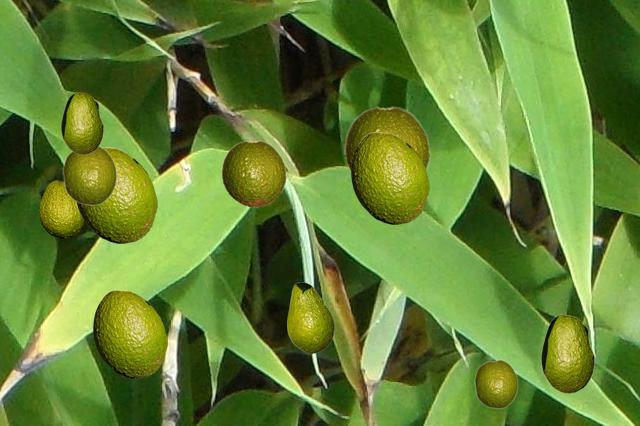avocado: (76, 147, 156, 242), (351, 132, 428, 223), (93, 290, 166, 377), (344, 106, 430, 174), (221, 140, 286, 206), (541, 314, 593, 392), (287, 282, 333, 352), (62, 146, 116, 205), (39, 180, 83, 237), (61, 92, 102, 153), (474, 359, 517, 408)
